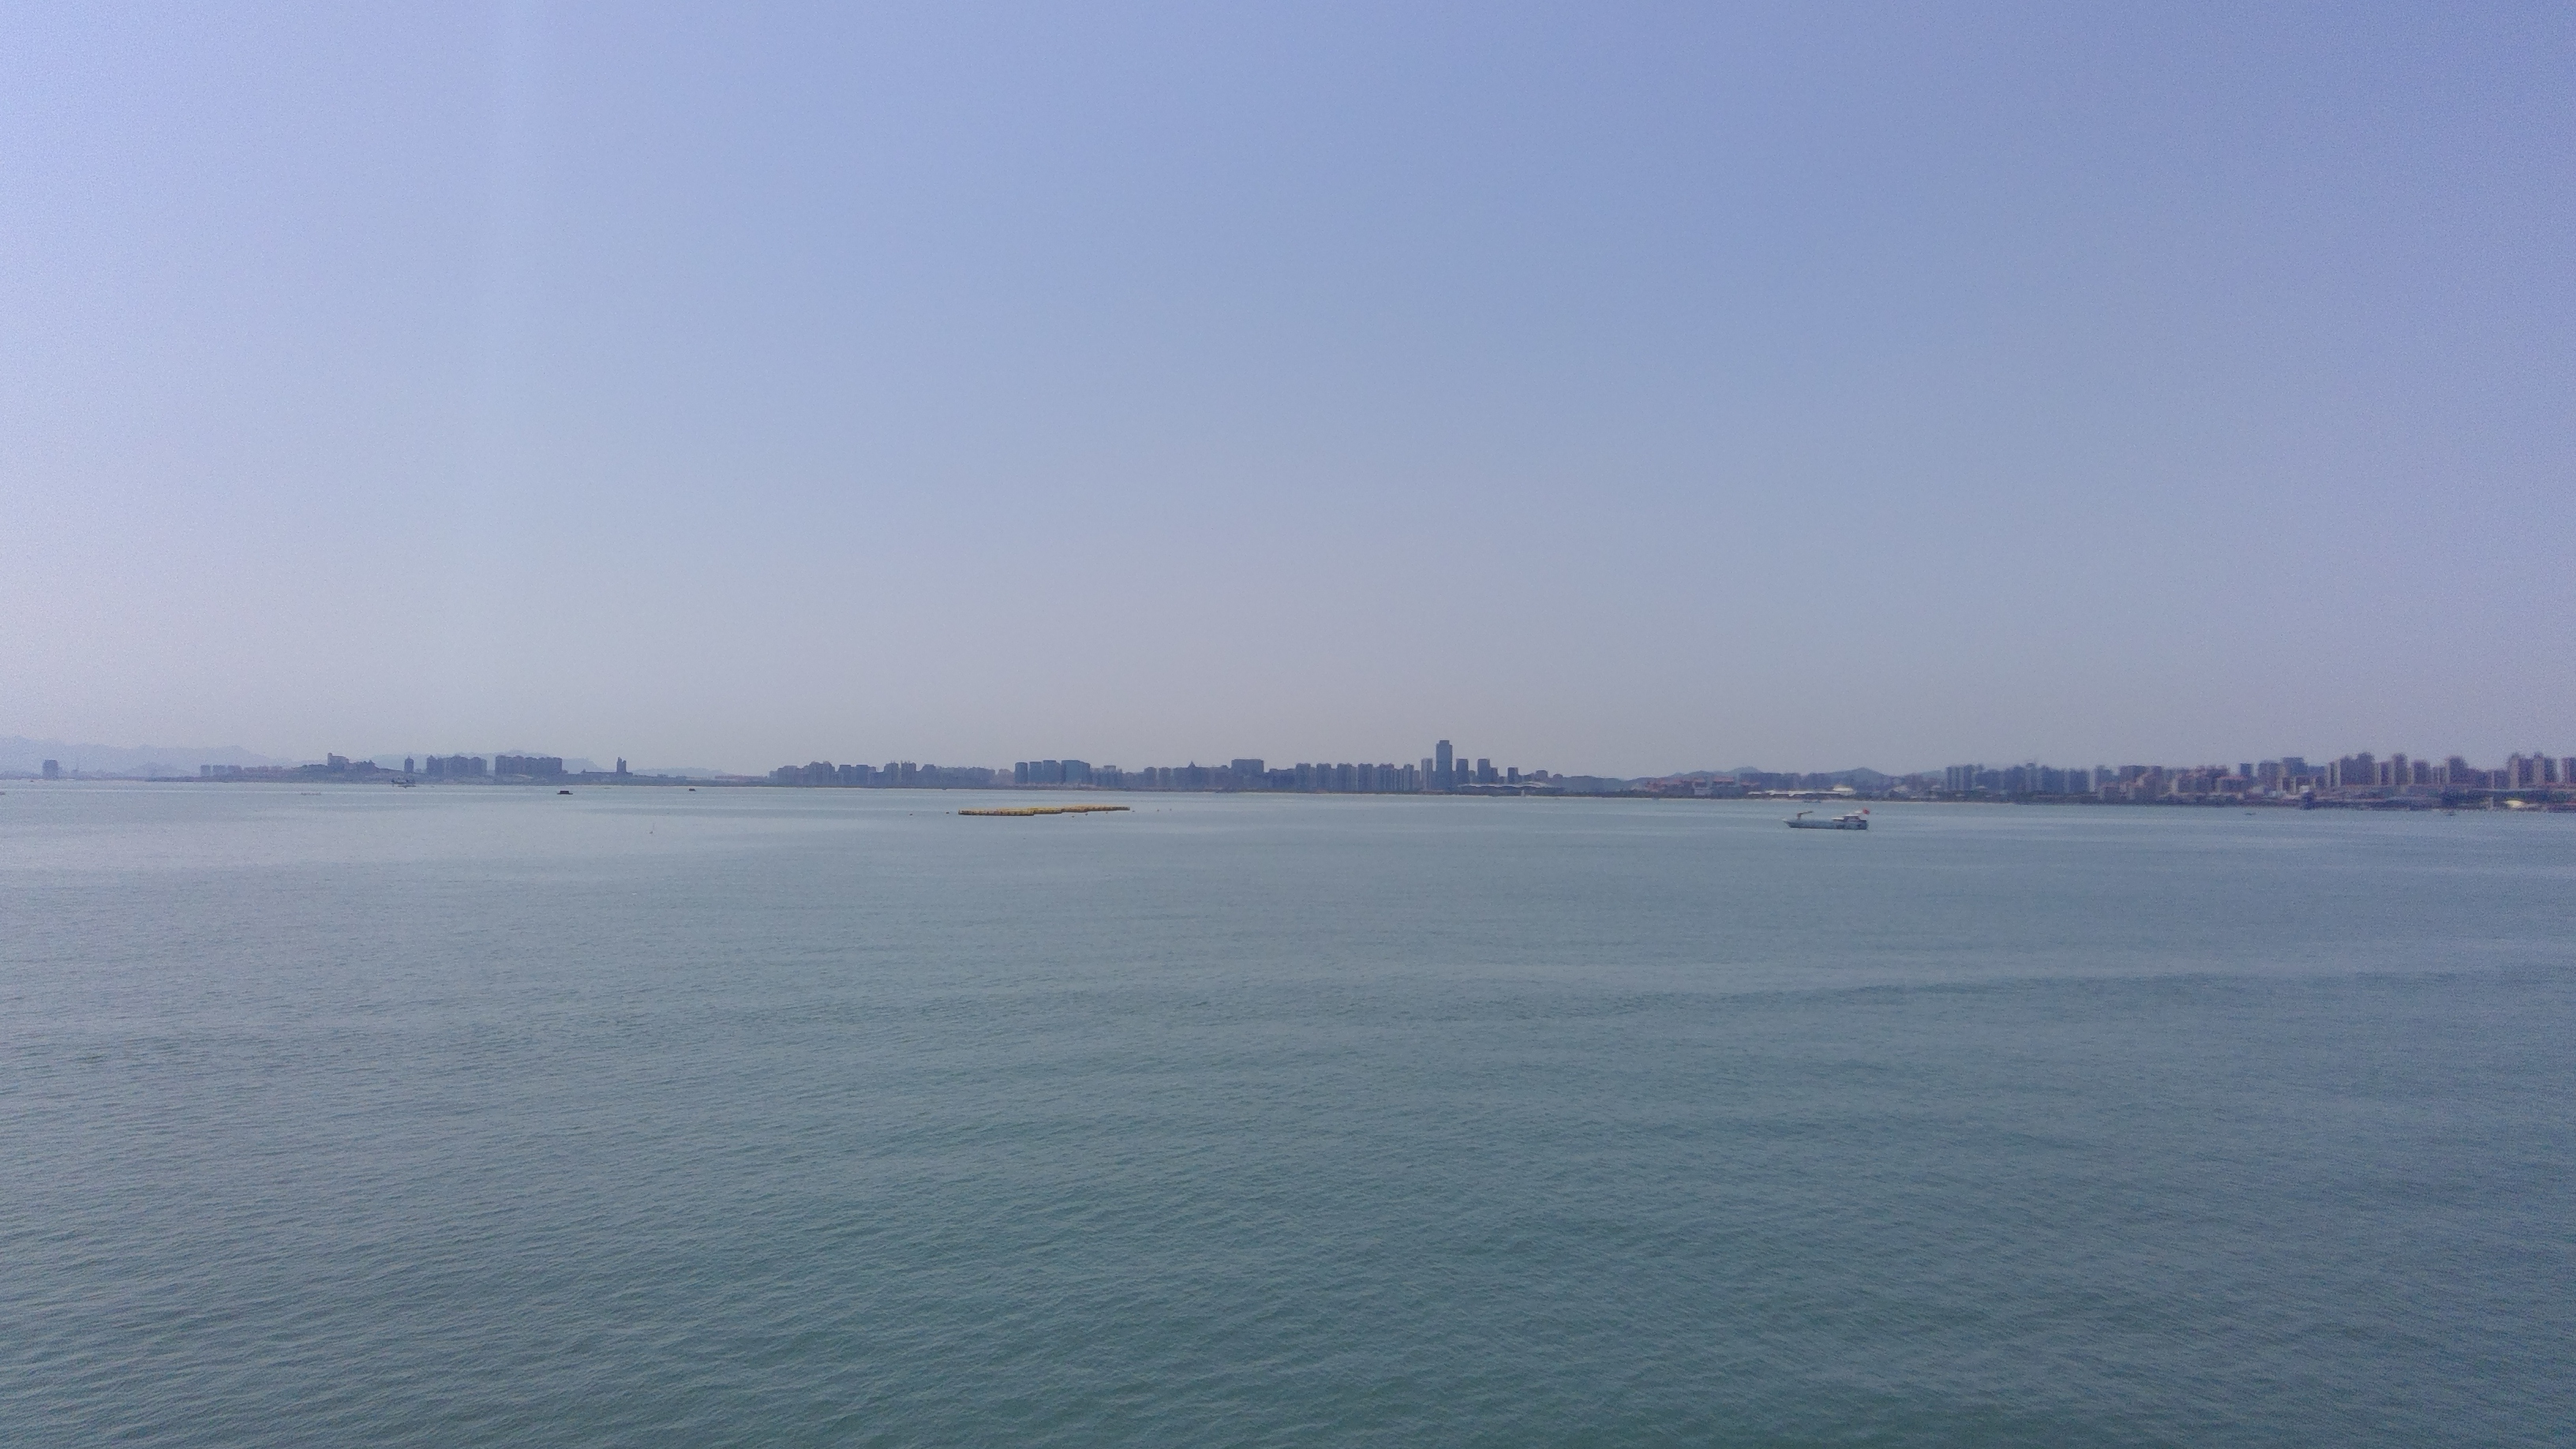ship: (1778, 796, 1870, 833)
